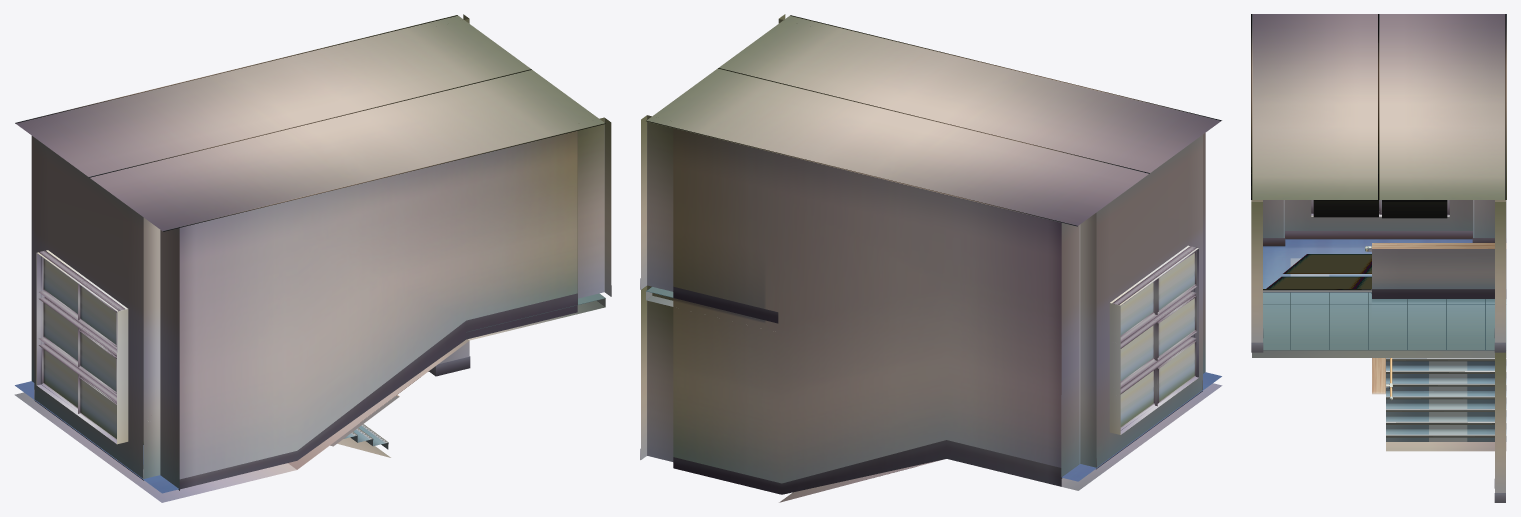
The model's file is JpsStairs_ToRoofTop.FBX.
The picture shows the model from 3 angles, left to right: view 1: azimuth 30°, elevation 25°; view 2: azimuth 150°, elevation 25°; view 3: azimuth 270°, elevation 25°; orthographic projection. The views are drawn at different scales.
Parts seen in each view (by area): view 1: Sta_ToRoofTop_wallB, Sta_ToRoofTop_StairsCeiling, Sta_ToRoofTop_window, Sta_ToRoofTop_stairs, Sta_ToRoofTop_wallF; view 2: Sta_ToRoofTop_wallF, Sta_ToRoofTop_StairsCeiling, Sta_ToRoofTop_window, Sta_ToRoofTop_stairs; view 3: Sta_ToRoofTop_StairsCeiling, Sta_ToRoofTop_stairs, Sta_ToRoofTop_window, Sta_ToRoofTop_wallF, Sta_ToRoofTop_spotF, Sta_ToRoofTop_beam_add, Sta_ToRoofTop_baseboards, Sta_ToRoofTop_wallB.
Boxes of the visible parts, x1,y1,x2,y2 form: Sta_ToRoofTop_wallB: [179, 117, 611, 489]; Sta_ToRoofTop_StairsCeiling: [15, 15, 605, 231]; Sta_ToRoofTop_window: [31, 136, 179, 489]; Sta_ToRoofTop_stairs: [14, 293, 605, 502]; Sta_ToRoofTop_wallF: [428, 14, 470, 376]; Sta_ToRoofTop_wallF: [640, 115, 1061, 494]; Sta_ToRoofTop_StairsCeiling: [646, 15, 1221, 226]; Sta_ToRoofTop_window: [1061, 133, 1205, 477]; Sta_ToRoofTop_stairs: [646, 286, 1222, 502]; Sta_ToRoofTop_StairsCeiling: [1251, 14, 1506, 199]; Sta_ToRoofTop_stairs: [1252, 239, 1506, 451]; Sta_ToRoofTop_window: [1263, 200, 1506, 237]; Sta_ToRoofTop_wallF: [1494, 200, 1505, 502]; Sta_ToRoofTop_spotF: [1263, 254, 1371, 289]; Sta_ToRoofTop_beam_add: [1313, 200, 1447, 218]; Sta_ToRoofTop_baseboards: [1263, 231, 1506, 246]; Sta_ToRoofTop_wallB: [1251, 200, 1263, 352].
Size of the model in its own units: 826 by 616 by 463.
